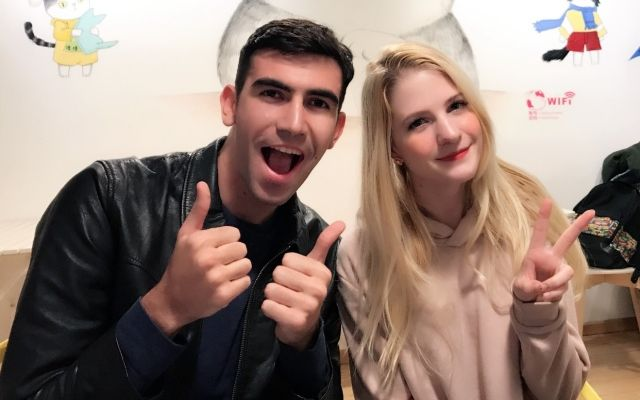mask: (268, 150, 287, 167)
